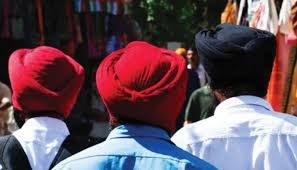helmet: (93, 41, 186, 140), (195, 21, 282, 110), (6, 44, 84, 131)
